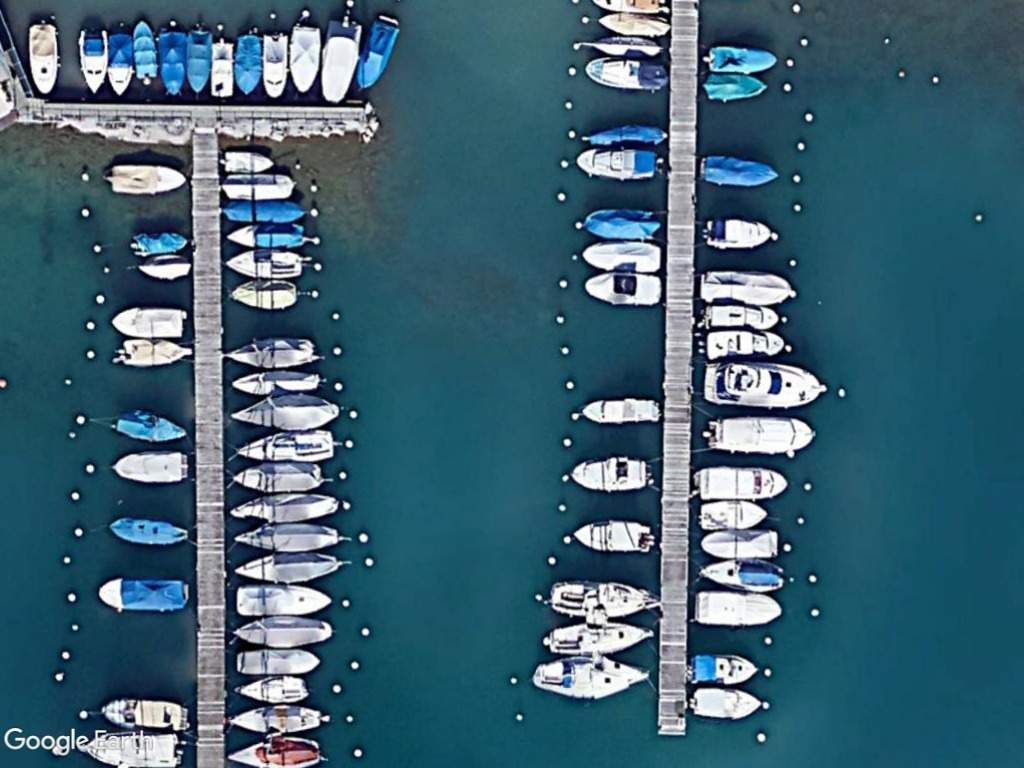boat: (694, 357, 832, 414), (527, 654, 655, 707), (691, 576, 789, 633), (224, 386, 345, 431), (542, 614, 662, 659), (700, 412, 822, 455), (226, 483, 342, 527), (696, 260, 802, 308), (316, 11, 369, 105), (565, 137, 671, 184), (230, 544, 346, 586), (688, 459, 797, 502), (230, 514, 348, 553), (543, 578, 661, 617), (700, 208, 789, 259), (578, 50, 674, 97), (352, 15, 404, 99), (233, 579, 337, 621), (89, 572, 197, 612), (232, 611, 336, 652), (226, 698, 329, 739), (226, 456, 329, 495), (570, 512, 661, 556), (98, 695, 194, 736), (691, 521, 784, 563), (223, 331, 321, 370), (564, 452, 655, 494), (581, 265, 668, 308), (110, 402, 195, 446), (696, 147, 781, 191), (221, 214, 311, 255), (226, 734, 332, 768), (220, 162, 304, 204), (108, 447, 194, 488), (580, 201, 668, 241), (221, 246, 311, 285), (102, 159, 191, 198), (105, 512, 195, 550), (229, 668, 316, 707), (683, 679, 768, 718), (577, 237, 667, 273), (107, 302, 191, 340), (287, 13, 324, 98), (111, 333, 195, 370), (229, 24, 269, 101), (26, 20, 62, 101), (577, 394, 662, 428), (703, 42, 783, 78), (155, 24, 192, 101), (75, 23, 113, 97), (223, 276, 301, 312), (690, 649, 762, 688), (256, 24, 291, 104), (100, 26, 137, 99), (127, 228, 197, 260), (216, 143, 277, 178), (136, 250, 200, 282)
